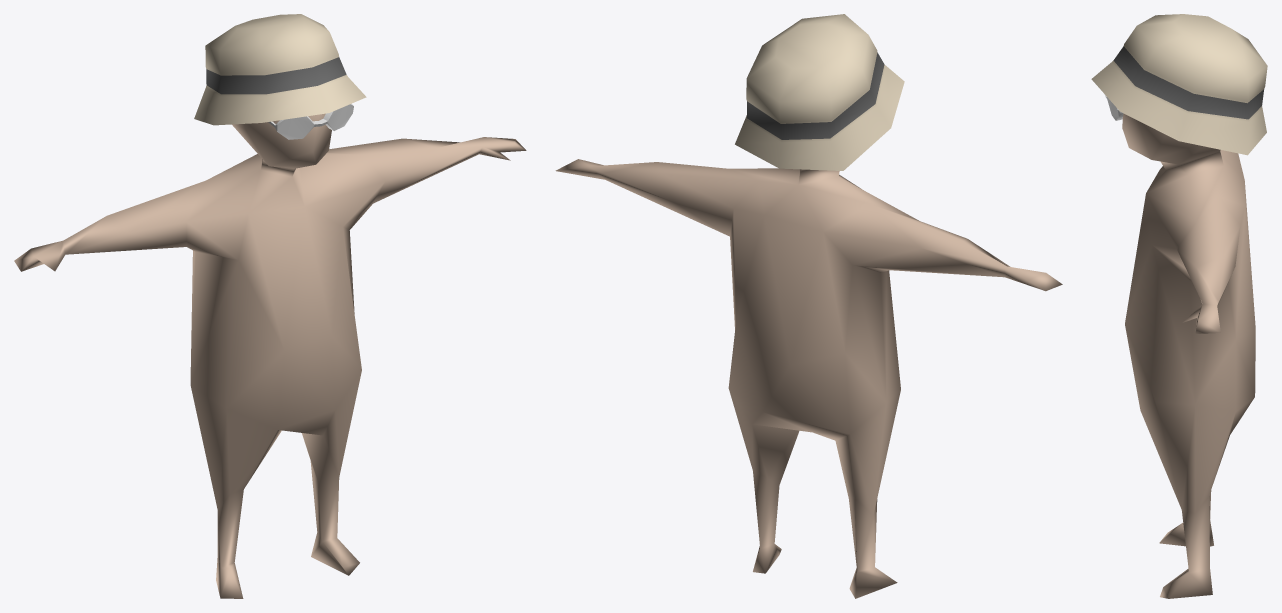
Rendered from baseMale3.fbx.
3 renders of one model, left to right at view 1: azimuth 30°, elevation 25°; view 2: azimuth 150°, elevation 25°; view 3: azimuth 270°, elevation 25°, orthographic. The views are drawn at different scales.
Visible parts, largest first — view 1: Cylinder001.001, Hat.001, Cylinder002.001; view 2: Cylinder001.001, Hat.001; view 3: Cylinder001.001, Hat.001.
Part boxes in pixels (bbox=[...]): Cylinder001.001: bbox=[14, 113, 526, 598]; Hat.001: bbox=[194, 14, 366, 125]; Cylinder002.001: bbox=[268, 103, 353, 139]; Cylinder001.001: bbox=[555, 159, 1062, 598]; Hat.001: bbox=[735, 14, 904, 170]; Cylinder001.001: bbox=[1122, 114, 1255, 598]; Hat.001: bbox=[1091, 14, 1267, 155].
Size of the model in its own units: 140 by 149 by 43.23.
